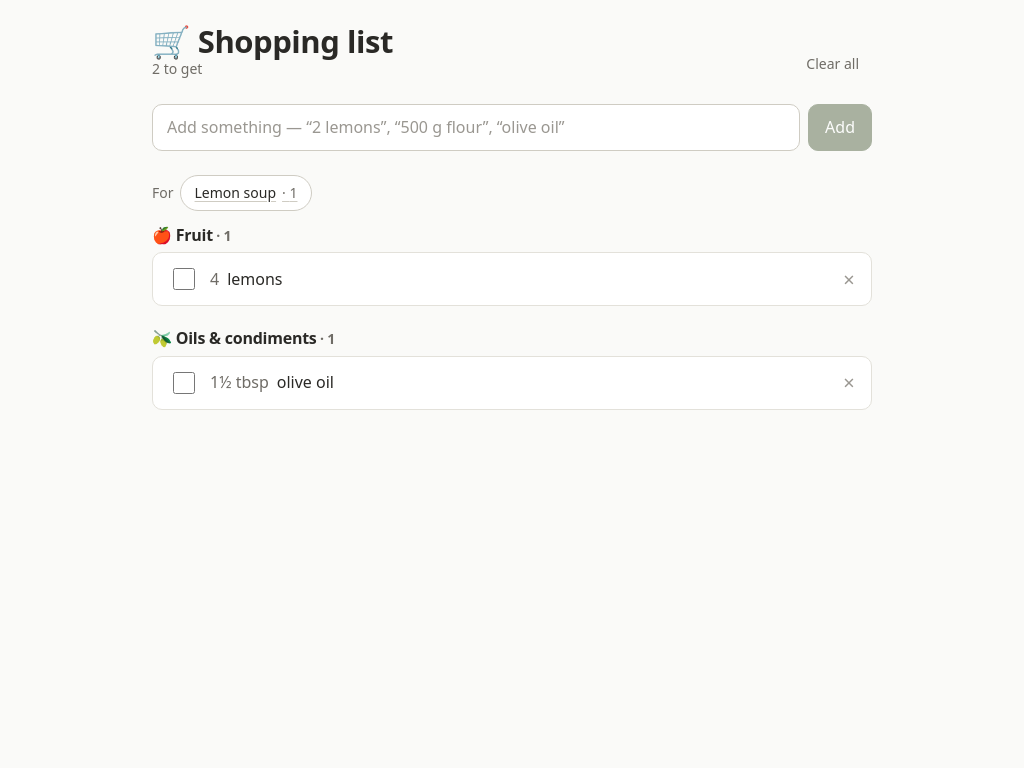
Test case: Shopping list › shows the list by aisle with quantities, ticks a line optimistically, quick-adds, and clears ticked
Expected: the heading "🍎 Fruit · 1" is shown, [152,224,231,246]
Expected: the text "1½ tbsp" is shown, [210,370,269,395]
Click the checkbox labelled "4 lemons": (184, 279) [173,268,195,290]
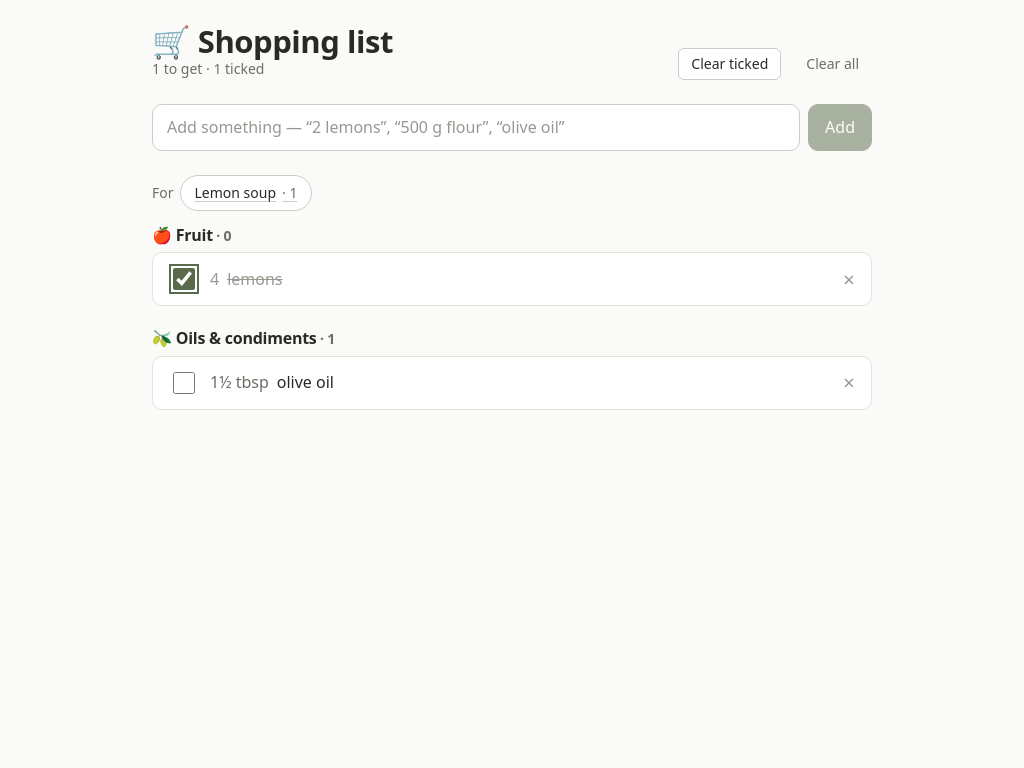
Result: the checkbox labelled "4 lemons" is checked at [173,268,195,290]
Result: the text "1 to get · 1 ticked" is shown at [152,59,264,78]
In the field named "Add to the list": (476, 127) [152,104,800,151], type "birthday candles"
Then press Enter
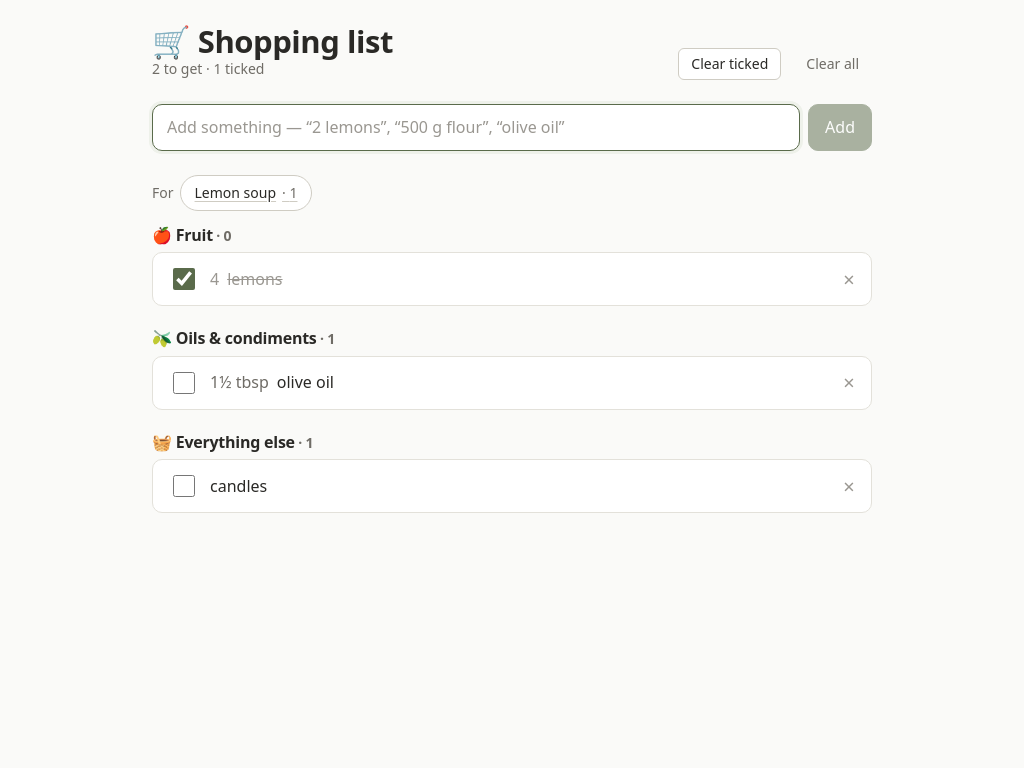
Result: the text "candles" is shown at [210,474,267,499]
Result: the heading "🧺 Everything else · 1" is shown at [152,431,313,453]
Click the button "Clear ticked": (730, 64) [678,48,781,80]
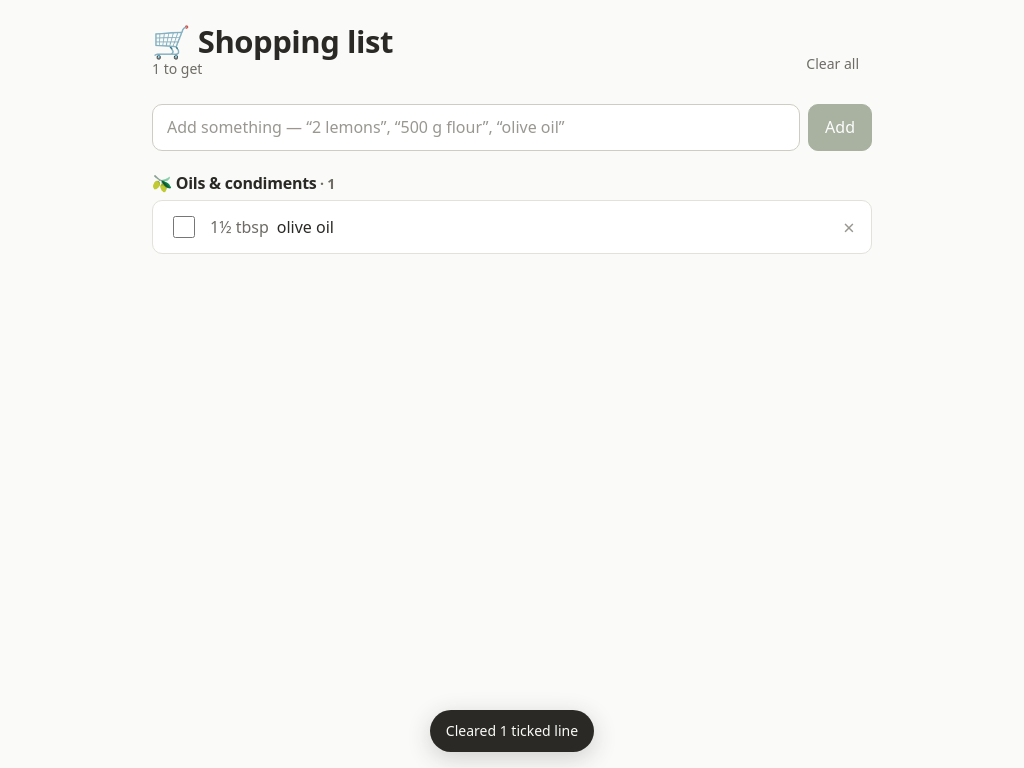
Result: the number of list items is 1 at [153,201,871,253]
